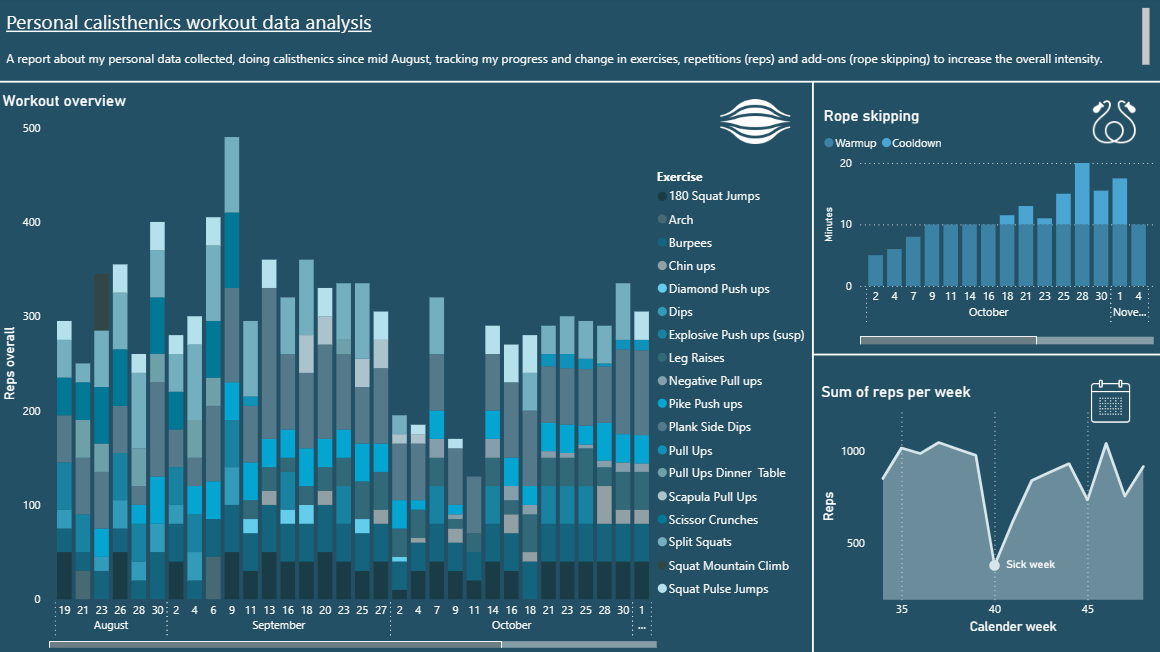

The dashboard page shown, as its layout file describes it:
{"tool":"powerbi","page":{"name":"Page 1","canvas":[1280,720],"ordinal":0},"visuals":[{"type":"columnChart","title":"Workout overview","fields":{"Category":["Sheet1.Date.Variation.Date Hierarchy.Month","Sheet1.Date.Variation.Date Hierarchy.Day"],"Series":["Sheet1.Exercise"],"Y":["Sum(Sheet1.Reps)"]},"box":[0,103.9,900.3,616.5],"z":0},{"type":"columnChart","title":"Rope skipping ","fields":{"Category":["Sheet1.Date.Variation.Date Hierarchy.Month","Sheet1.Date.Variation.Date Hierarchy.Day"],"Y":["Sum(Sheet1.Rope Warmup in min)","Sum(Sheet1.Rope Cooldown in min)"]},"box":[901.7,120.2,372.5,266.5],"z":1000},{"type":"image","box":[1194.4,109.9,63.2,57.4],"z":2000},{"type":"image","box":[784.9,94.3,93.4,86.6],"z":3000},{"type":"lineChart","title":"Sum of reps per week","fields":{"Category":["Weekly Data.Week"],"Y":["Sum(Weekly Data.Reps per week)"]},"box":[899.3,424.7,373.7,281.8],"z":4000},{"type":"shape","box":[0,80.8,1280,26.3],"z":5000},{"type":"shape","box":[885.3,94.9,19,625.5],"z":6000},{"type":"shape","box":[895.3,380.7,384.7,27],"z":7000},{"type":"image","box":[1186.6,413.4,69.1,67.1],"z":8000},{"type":"textbox","box":[4,8,1265,72.9],"z":9000},{"type":"textbox","box":[1102,609.8,84.6,37.9],"z":10000}]}

Visuals, with their boxes in screenshot pixels (x1, y1, x2, y2), scaled from the page's 1280x720 canvas onto the 1160x652 screenshot:
"Workout overview" columnChart: 0,94,816,651
"Rope skipping " columnChart: 817,109,1155,350
image: 1082,100,1140,151
image: 711,85,796,164
"Sum of reps per week" lineChart: 815,385,1154,640
shape: 0,73,1159,97
shape: 802,86,820,651
shape: 811,345,1159,369
image: 1075,374,1138,435
textbox: 4,7,1150,73
textbox: 999,552,1075,587
